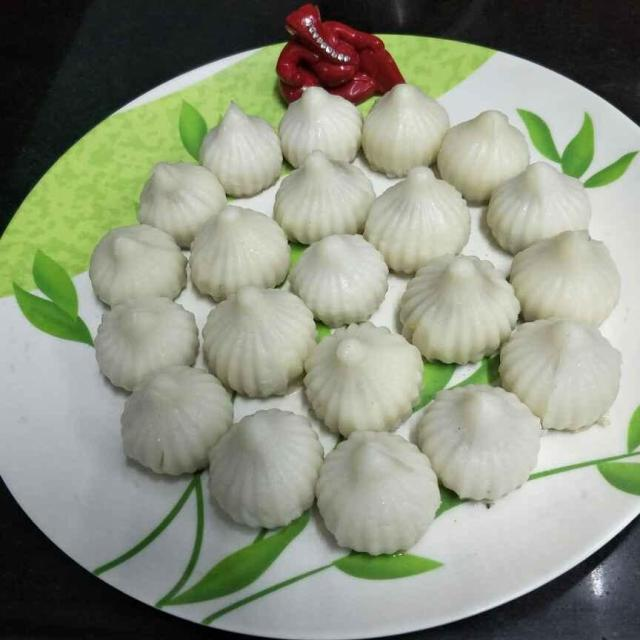modak: (304, 429, 441, 556), (500, 312, 626, 435), (117, 361, 235, 492), (302, 313, 425, 437), (419, 374, 537, 502), (214, 410, 323, 544), (394, 247, 512, 357), (504, 224, 633, 319), (94, 289, 208, 392), (204, 299, 314, 402), (480, 163, 601, 252), (268, 76, 368, 176), (425, 106, 530, 201), (373, 172, 470, 273), (273, 155, 375, 248), (291, 235, 394, 326), (87, 213, 185, 302), (361, 74, 444, 179), (185, 208, 290, 291), (128, 152, 228, 239), (192, 103, 283, 190)
